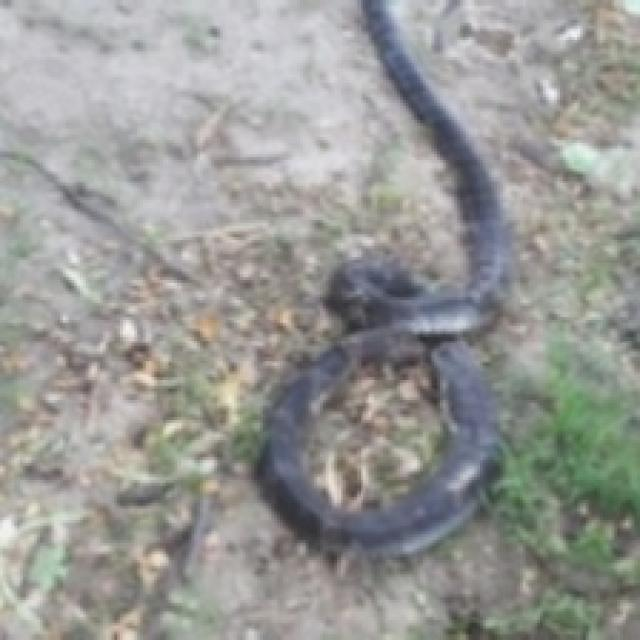king cobra: (260, 0, 509, 554)
